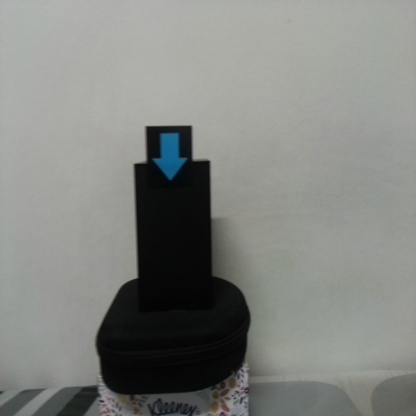id_2: (145, 128, 193, 189)
